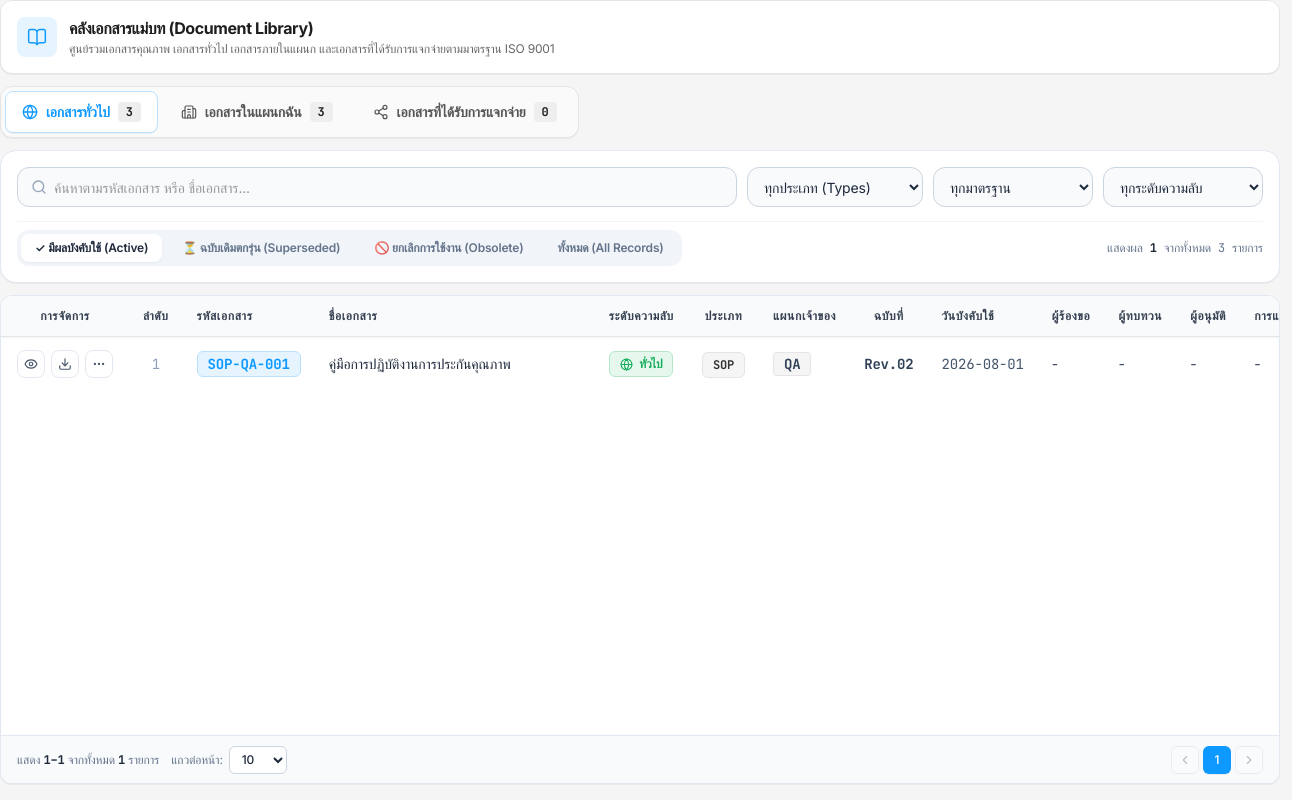
Test: Critical System Fix: Library Status Filter Normalization & Watermark Disentanglement Tests › 1. Status Normalization & Tab Filter Verification › Renders SOP-QA-003 (OBSOLETE_ARCHIVED) in Library when selecting Obsolete status sub-tab
Note: Switch to "เอกสารในแผนกฉัน"
Click the button "เอกสารในแผนกฉัน 3" at (257, 112), box [164, 91, 350, 133]
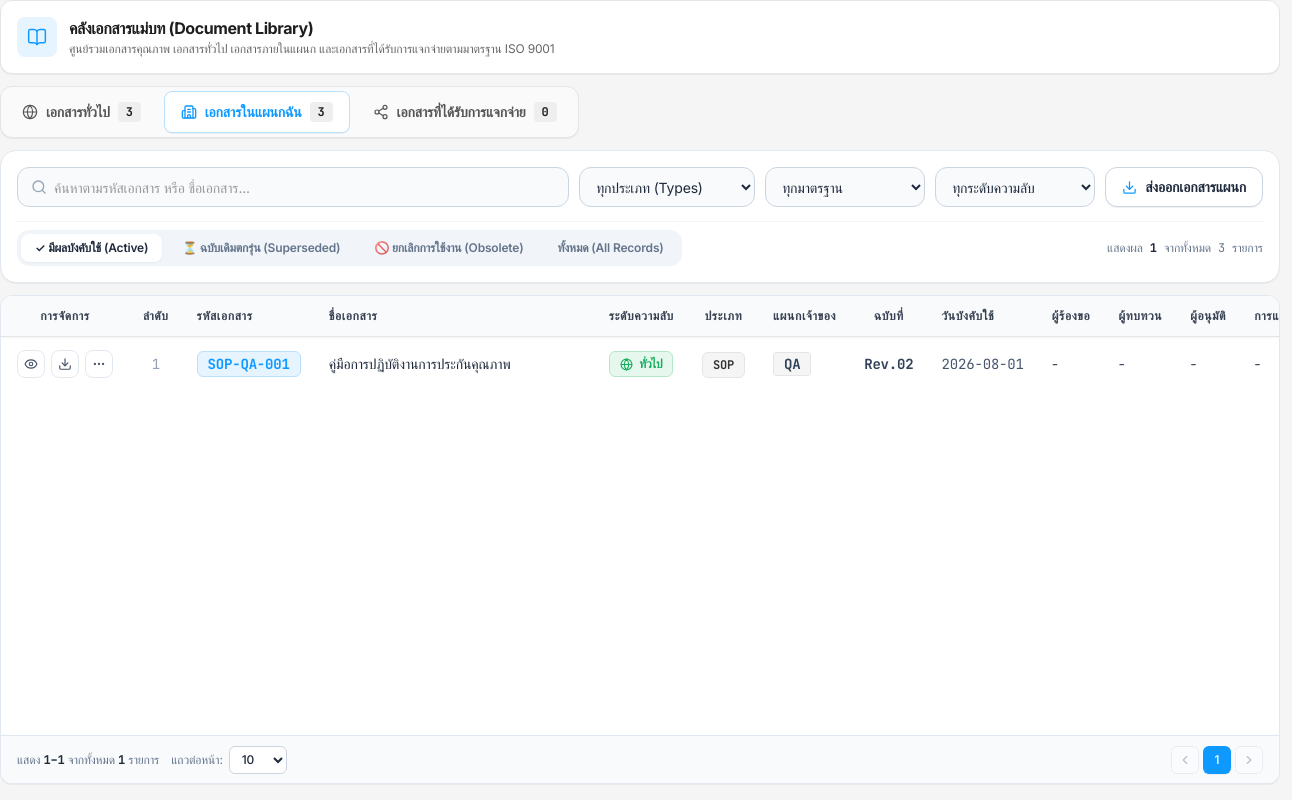
Note: Select status filter "ยกเลิกการใช้งาน (Obsolete)"
Click the button "🚫 ยกเลิกการใช้งาน (Obsolete)" at (449, 248), box [360, 234, 538, 262]
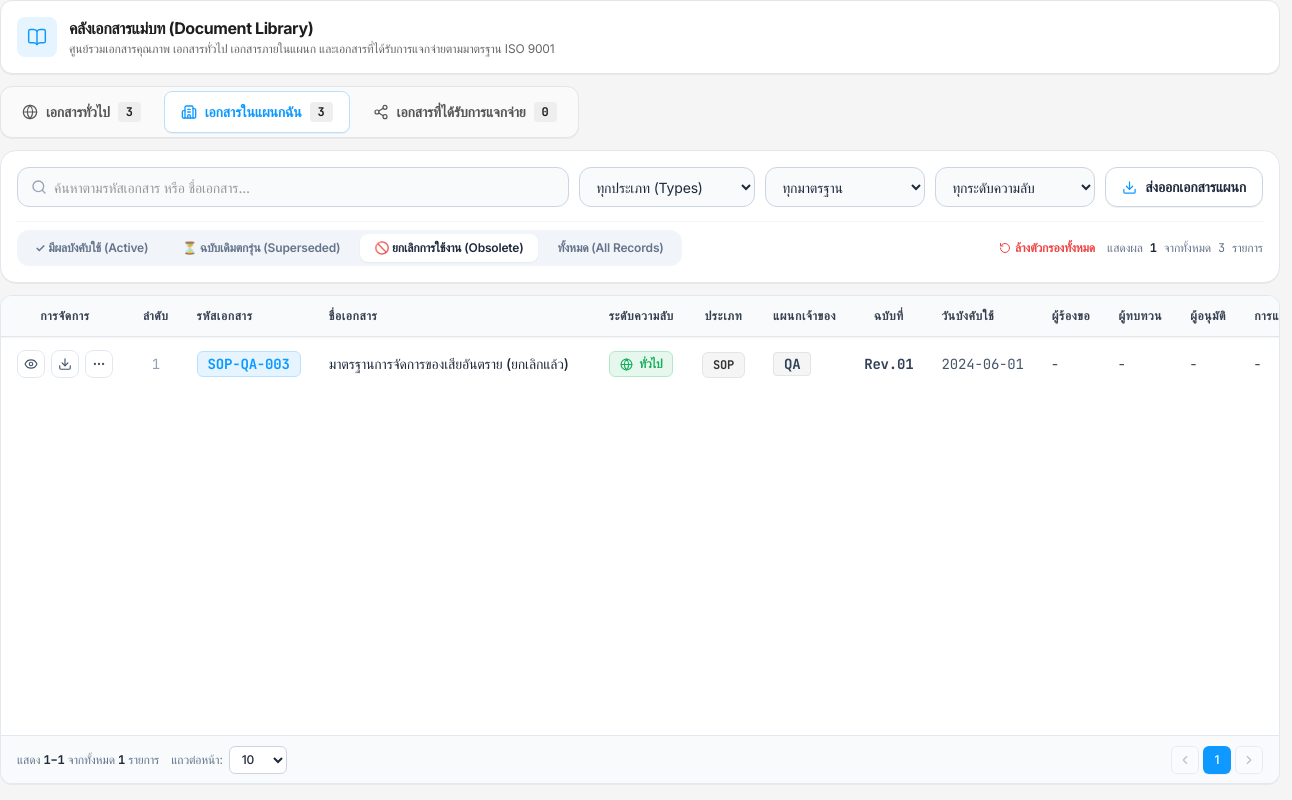
Expected: the text "SOP-QA-003" is shown, [196, 351, 301, 377]
Expected: the text "มาตรฐานการจัดการของเสียอันตราย (ยกเลิกแล้ว)" is shown, [329, 353, 581, 375]
Expected: the text "SOP-QA-001" is gone
